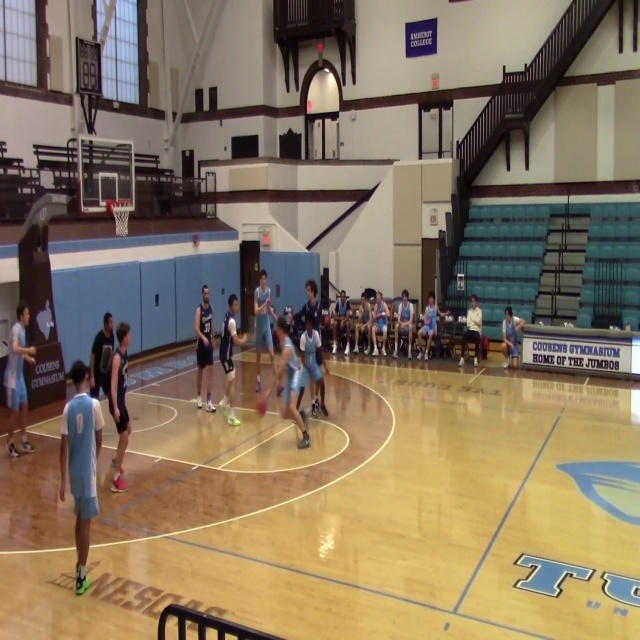Basketball: (271, 330, 281, 351), (256, 397, 267, 414)
